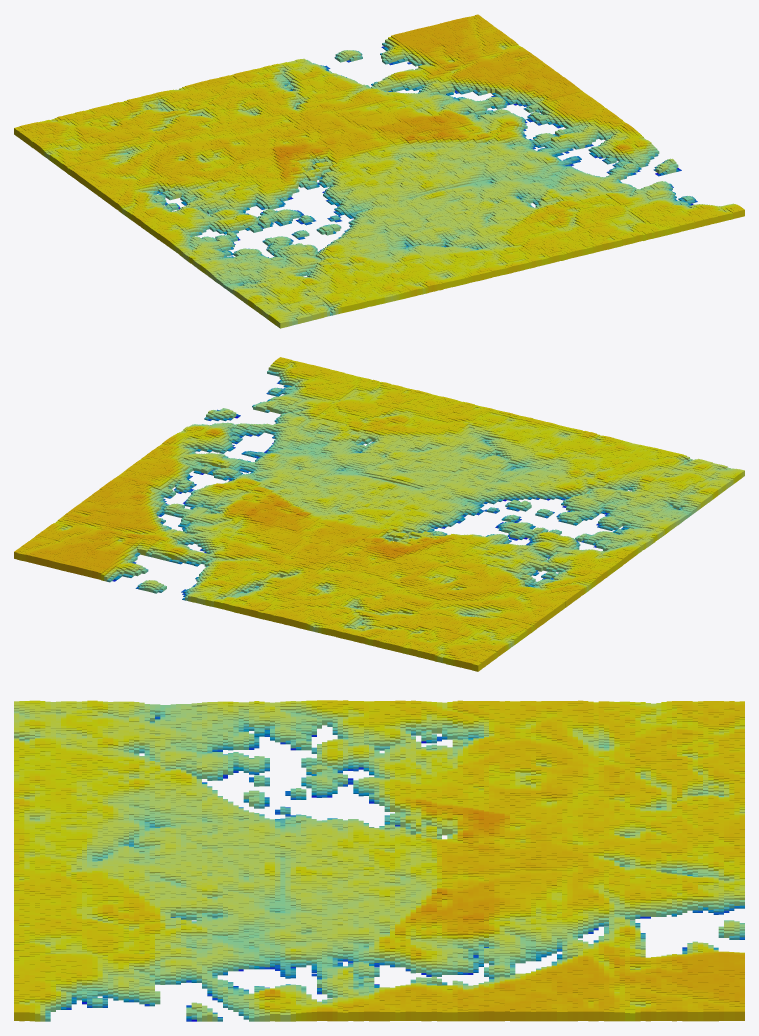
Rendered from population.glb.
The picture shows the model from 3 angles, top to bottom: view 1: azimuth 30°, elevation 25°; view 2: azimuth 150°, elevation 25°; view 3: azimuth 270°, elevation 25°; orthographic projection. The views are drawn at different scales.
Parts seen in each view (by area): view 1: population; view 2: population; view 3: population.
Boxes of the visible parts, <box> form: population: <box>14,14,744,328</box>; population: <box>14,357,744,671</box>; population: <box>14,700,744,1021</box>.
Bounding box in the file's own units: 14031 × 264 × 13941.
